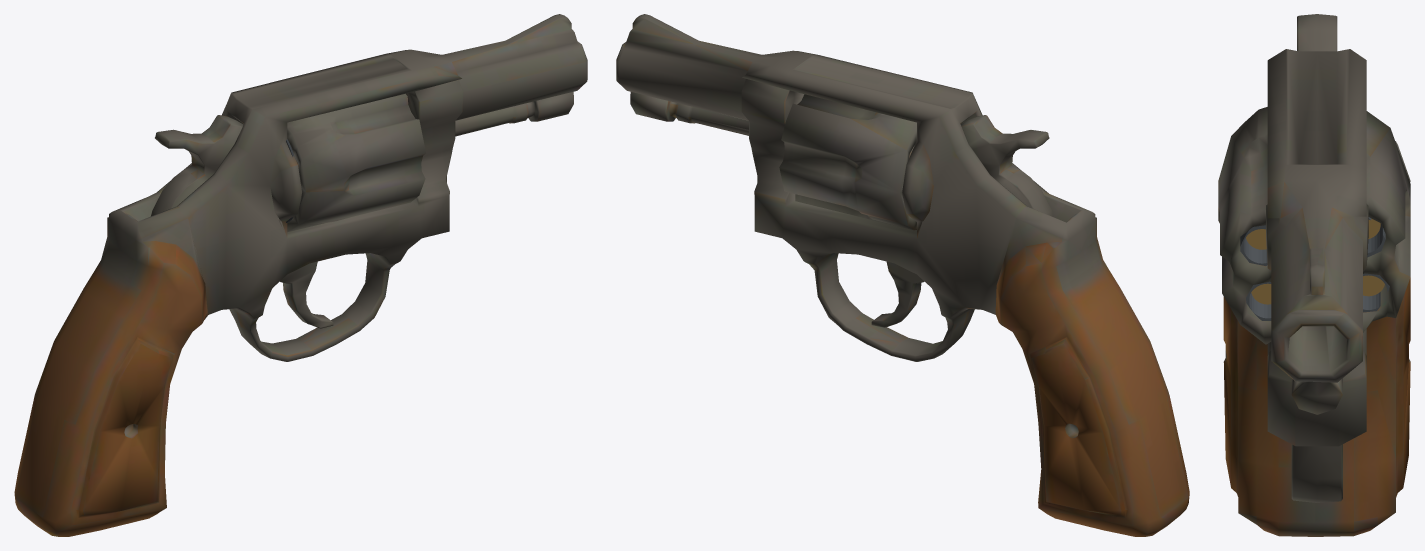
File: revolver38.glb
3 renders of one model, left to right at view 1: azimuth 30°, elevation 25°; view 2: azimuth 150°, elevation 25°; view 3: azimuth 270°, elevation 25°, orthographic. The views are drawn at different scales.
Visible parts, largest first — view 1: GEO-BODY, GEO-Drum, GEO-Hammer, GEO-Trigger; view 2: GEO-BODY, GEO-Drum, GEO-Hammer, GEO-Trigger; view 3: GEO-BODY, GEO-Drum, GEO-Drum_InnerCore, GEO-Hammer, GEO-Cartridge2_Case, GEO-Cartridge4_Case, GEO-Cartridge5_Case.
Boxes of the visible parts, x1,y1,x2,y2 form: GEO-BODY: (14, 14, 587, 536); GEO-Drum: (287, 93, 425, 232); GEO-Hammer: (151, 115, 243, 216); GEO-Trigger: (280, 261, 333, 328); GEO-BODY: (616, 14, 1189, 536); GEO-Drum: (779, 94, 916, 230); GEO-Hammer: (960, 115, 1053, 216); GEO-Trigger: (871, 261, 924, 327); GEO-BODY: (1223, 49, 1410, 536); GEO-Drum: (1218, 107, 1410, 344); GEO-Drum_InnerCore: (1240, 217, 1389, 320); GEO-Hammer: (1297, 14, 1337, 51); GEO-Cartridge2_Case: (1363, 275, 1384, 296); GEO-Cartridge4_Case: (1251, 283, 1271, 304); GEO-Cartridge5_Case: (1246, 229, 1266, 249).
Bounding box in the file's own units: 0.998 × 0.6738 × 0.2051.
4 materials, 1 textured.
